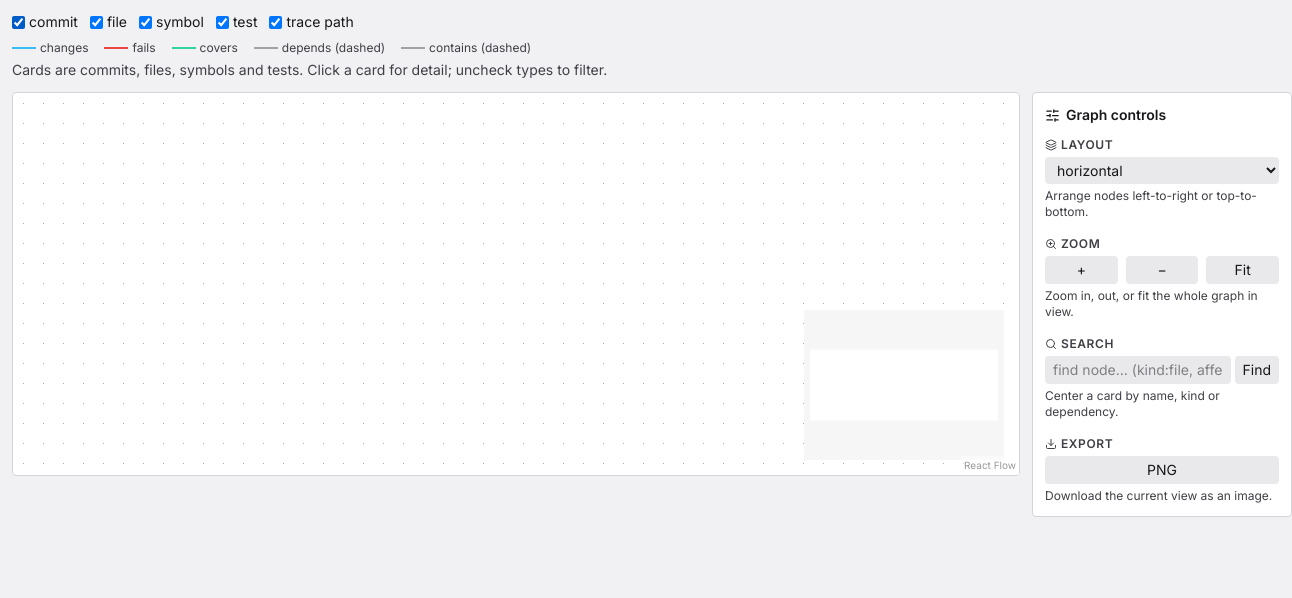
GraphExplorer › announces no-match searches without crashing
The width and height of the screenshot is (1292, 598).
Type "zzz-no-such-node" into the field named "find node by label" at (1138, 370), box [1045,356,1230,384]
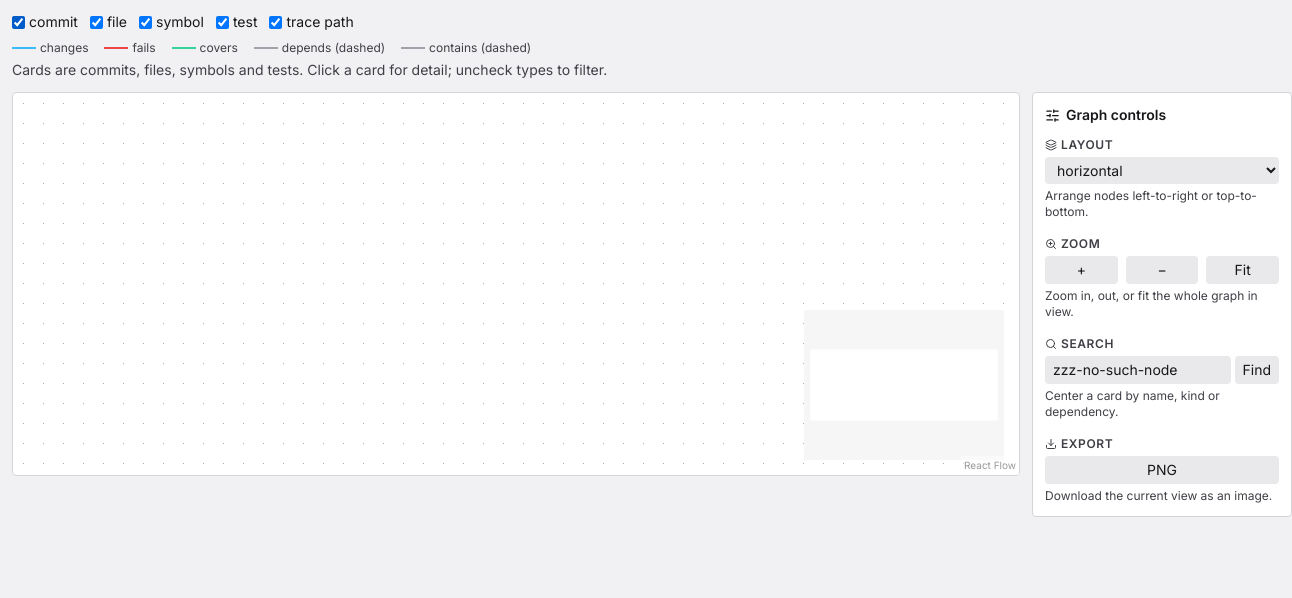
Click the button "Find" at (1257, 370), box [1234,356,1279,384]
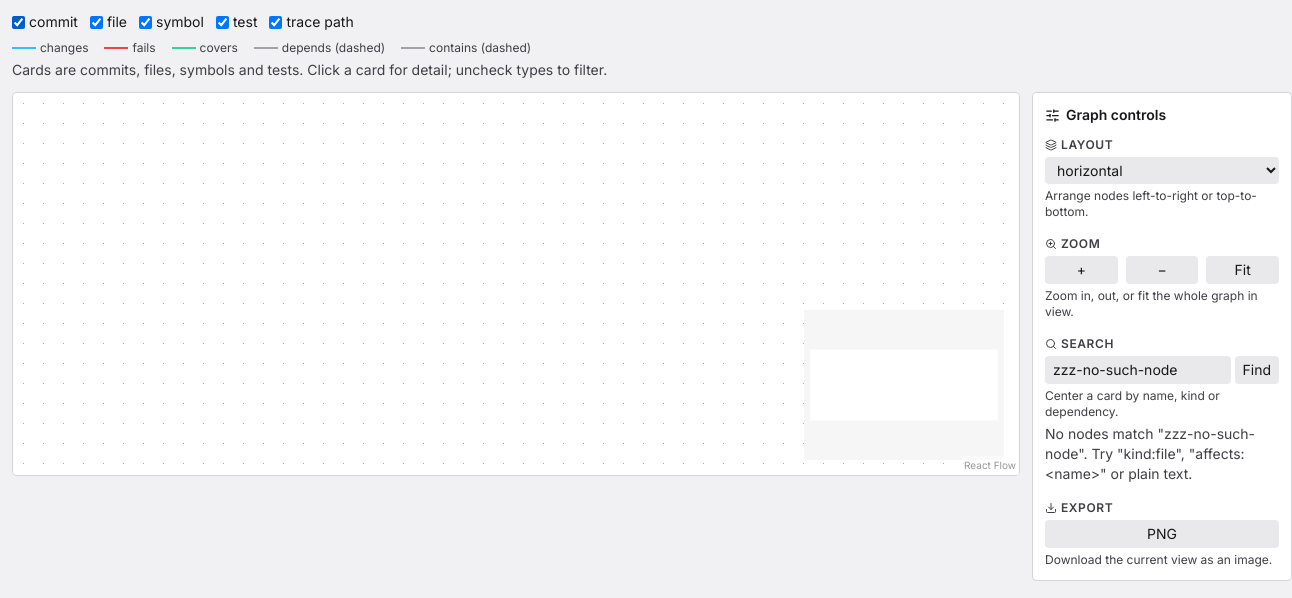
Result: the message shows "No nodes match" at [1045,425,1255,482]
